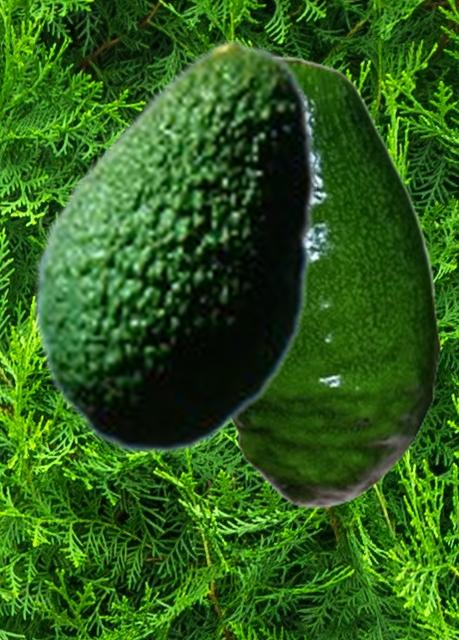avocado: (33, 40, 315, 454), (230, 55, 440, 507)
